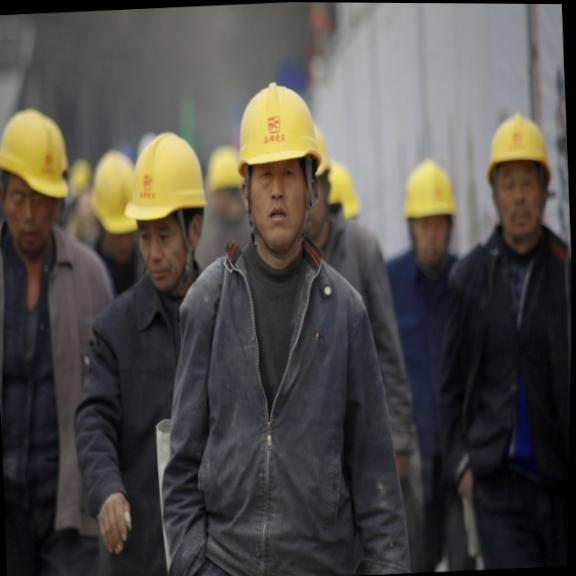no_safety_vest: (196, 256, 360, 562), (0, 237, 102, 464)
